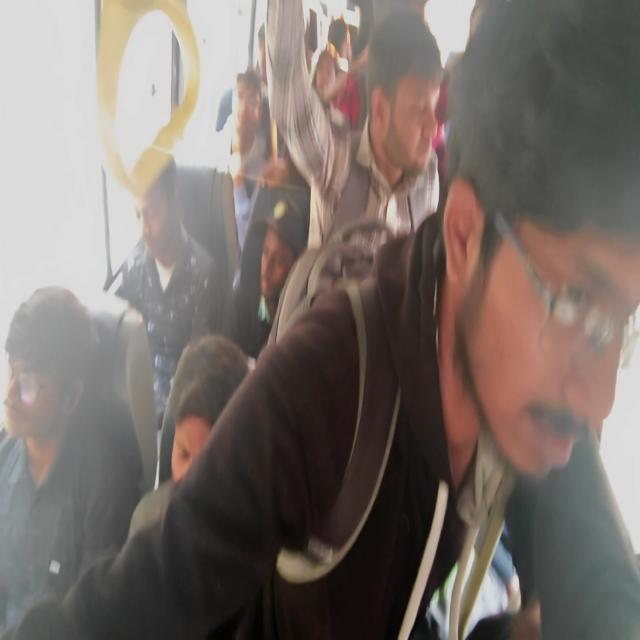person: (478, 58, 640, 544), (378, 21, 449, 178), (11, 300, 88, 441), (170, 366, 237, 509), (132, 141, 190, 244), (259, 198, 303, 298), (235, 77, 275, 157), (312, 48, 341, 122), (256, 18, 287, 76), (330, 17, 354, 70), (298, 3, 318, 58)
